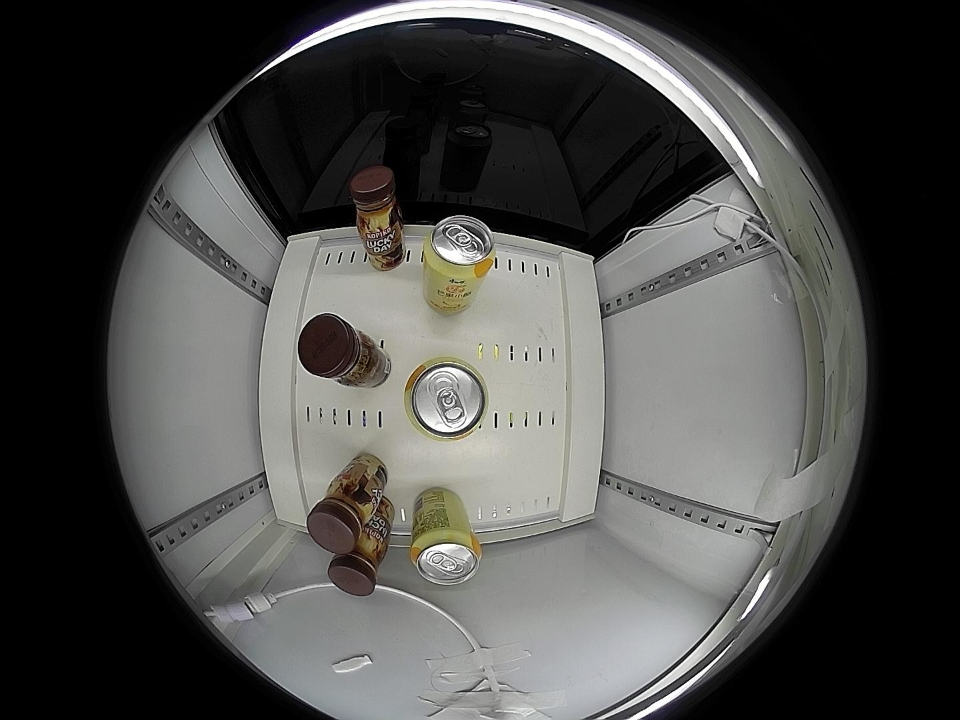lujikafei: (298, 313, 376, 385), (308, 475, 378, 554), (326, 531, 389, 596), (349, 166, 405, 237)
mangguoxiaolao: (403, 356, 490, 442), (424, 214, 496, 282), (410, 526, 482, 586)
